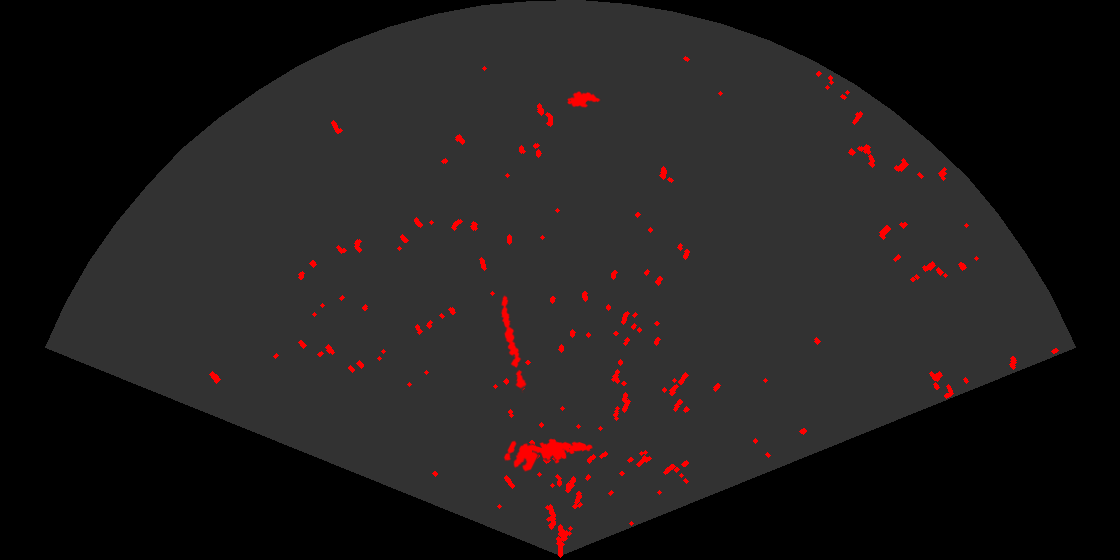AUV: (566, 90, 602, 109)
ball: (502, 439, 540, 473)
chain: (499, 293, 528, 393)
frogman: (532, 437, 595, 465)
